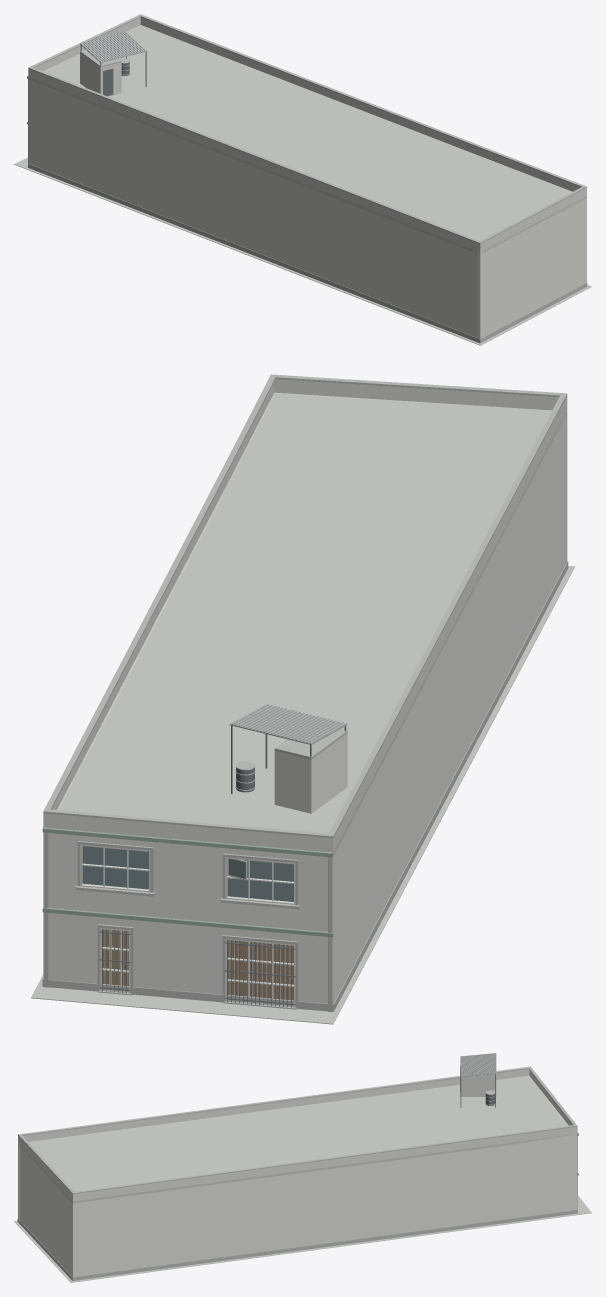
The model's file is lot_1134711.glb.
3 renders of one model, top to bottom at view 1: azimuth 30°, elevation 25°; view 2: azimuth 150°, elevation 25°; view 3: azimuth 270°, elevation 25°, orthographic. The views are drawn at different scales.
Parts seen in each view (by area): view 1: wall_12, roof_slab_11, wall_13, parapet_0, parapet_cap_2, plinth_2, lot_paving_11, canopy_sheet_8, rooftop_room_0, corrugation_2; view 2: roof_slab_11, wall_12, wall_17, parapet_0, parapet_cap_2, lot_paving_11, window_panel_4, plinth_2, rooftop_room_0, floor_band_1, gate_panel_6, corrugation_2 (+12 smaller); view 3: wall_16, roof_slab_11, parapet_0, wall_15, wall_13, parapet_cap_2, plinth_2, lot_paving_11, wall_14, corrugation_2, rooftop_room_0, canopy_sheet_8 (+2 smaller).
Boxes of the visible parts, <box> form: wall_12: <box>28,77,482,338</box>; roof_slab_11: <box>28,25,586,253</box>; wall_13: <box>477,196,586,338</box>; parapet_0: <box>28,17,586,252</box>; parapet_cap_2: <box>28,14,586,243</box>; plinth_2: <box>28,163,587,343</box>; lot_paving_11: <box>14,157,591,345</box>; canopy_sheet_8: <box>80,32,147,62</box>; rooftop_room_0: <box>80,52,121,96</box>; corrugation_2: <box>80,32,145,61</box>; roof_slab_11: <box>57,392,565,856</box>; wall_12: <box>333,413,565,1003</box>; wall_17: <box>49,833,333,1004</box>; parapet_0: <box>43,379,567,852</box>; parapet_cap_2: <box>43,374,567,838</box>; lot_paving_11: <box>31,566,574,1024</box>; window_panel_4: <box>82,846,293,901</box>; plinth_2: <box>42,561,568,1011</box>; rooftop_room_0: <box>274,733,347,813</box>; floor_band_1: <box>42,827,333,937</box>; gate_panel_6: <box>227,940,293,1000</box>; corrugation_2: <box>232,704,346,743</box>; wall_16: <box>182,1134,574,1262</box>; roof_slab_11: <box>19,1075,573,1203</box>; parapet_0: <box>18,1069,577,1201</box>; wall_15: <box>89,1187,182,1274</box>; wall_13: <box>19,1144,72,1276</box>; parapet_cap_2: <box>18,1066,577,1194</box>; plinth_2: <box>17,1209,577,1280</box>; lot_paving_11: <box>14,1195,591,1282</box>; wall_14: <box>73,1199,89,1277</box>; corrugation_2: <box>460,1053,496,1075</box>; rooftop_room_0: <box>460,1074,496,1096</box>; canopy_sheet_8: <box>460,1053,496,1076</box>.
Bounding box in the file's own units: 19.8 × 8.07 × 36.74.
